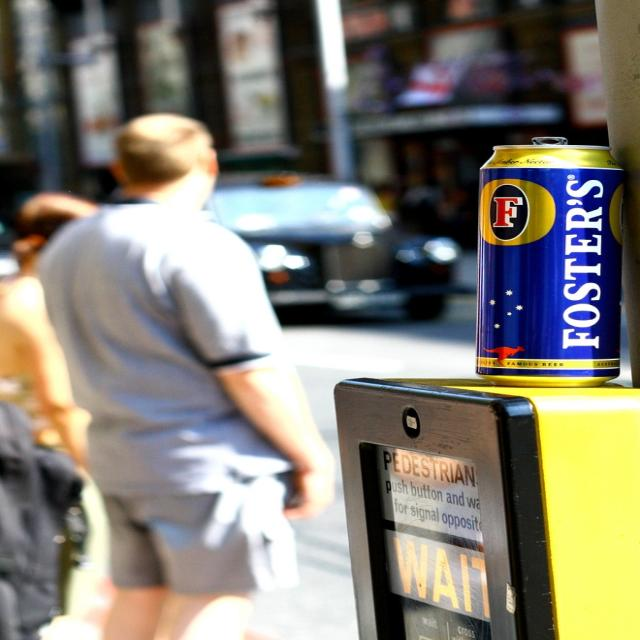fosters: (478, 177, 561, 250)
